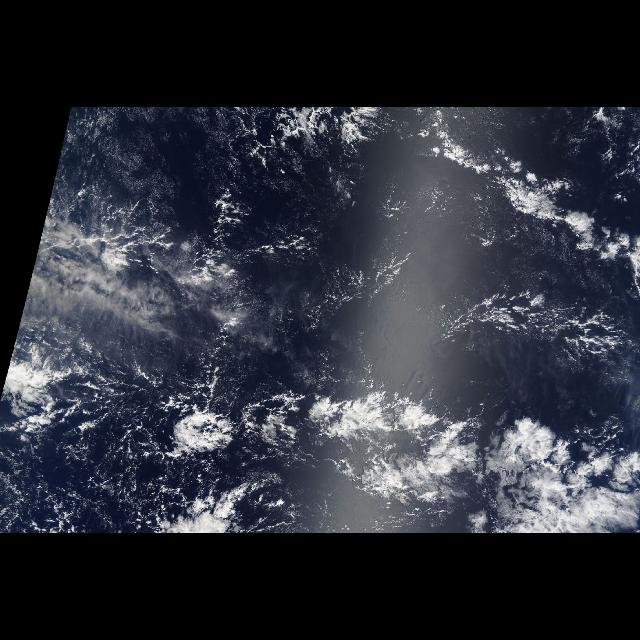Fish: (175, 396, 640, 532), (420, 110, 638, 288)
Gravel: (11, 365, 167, 529)
Sugar: (42, 110, 296, 244), (309, 152, 447, 378), (452, 294, 616, 414)
